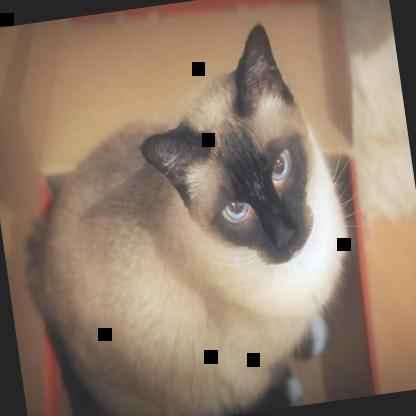cat: (0, 12, 369, 415)
